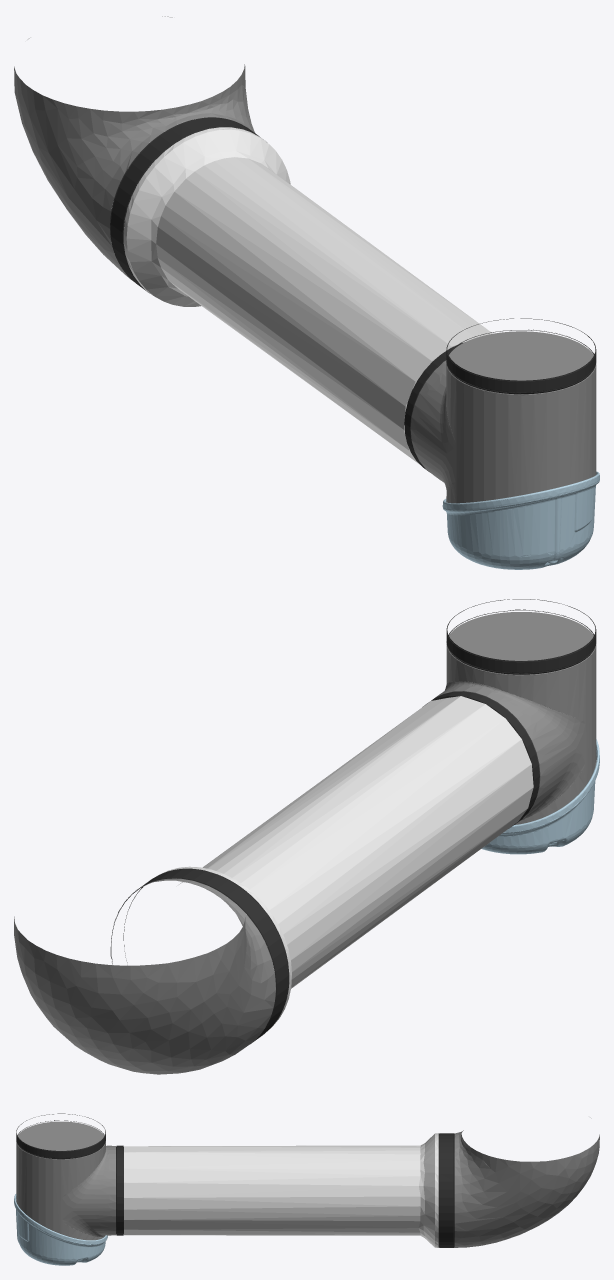
Rendered from forearm.glb.
The picture shows the model from 3 angles, top to bottom: view 1: azimuth 30°, elevation 25°; view 2: azimuth 150°, elevation 25°; view 3: azimuth 270°, elevation 25°; orthographic projection. The views are drawn at different scales.
Parts seen in each view (by area): view 1: world; view 2: world; view 3: world.
Boxes of the visible parts, bbox=[...] form: world: bbox=[14, 16, 599, 569]; world: bbox=[14, 599, 599, 1074]; world: bbox=[14, 1113, 599, 1265].
Bounding box in the file's own units: 0.1158 × 0.1099 × 0.4894.
Materials: 1 (1 with a texture image).
